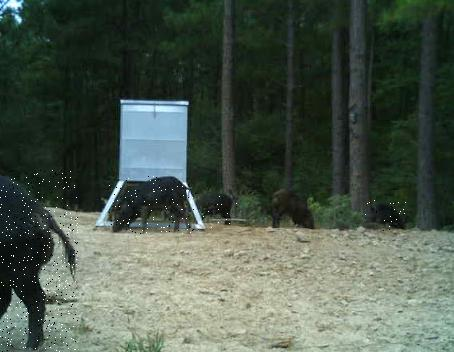Hog: (0, 170, 78, 352), (109, 176, 194, 234), (266, 190, 320, 234), (195, 189, 239, 228), (365, 198, 406, 231)
